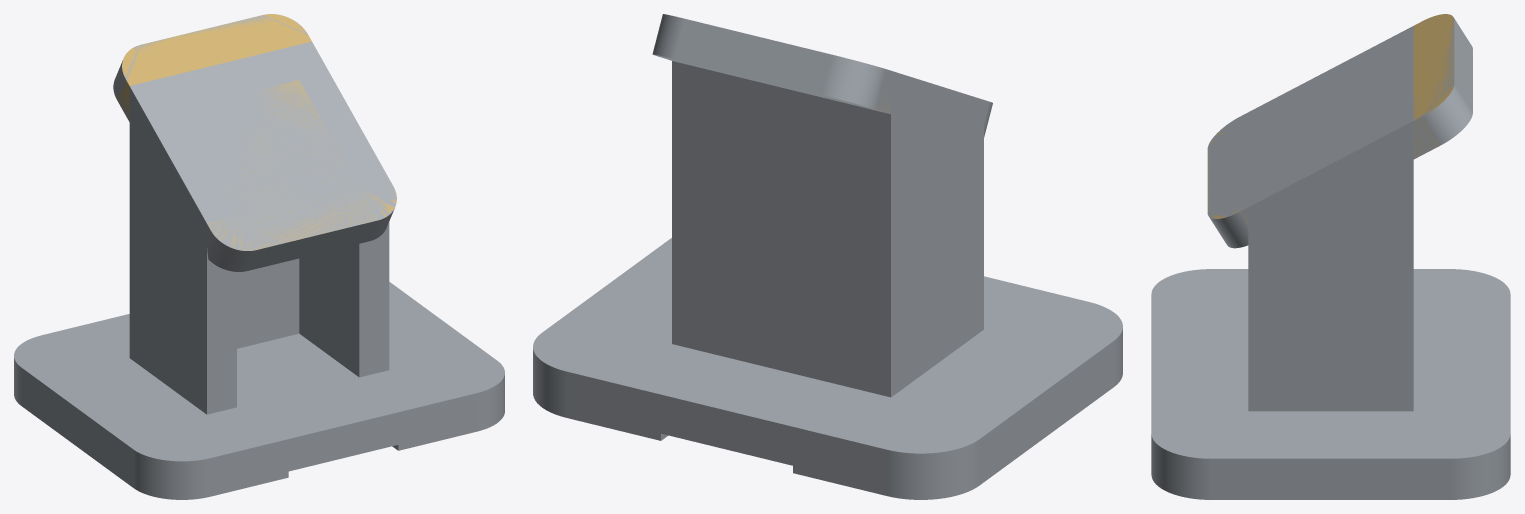
The model's file is step_06.glb.
3 views of the same model, side by side, from view 1: azimuth 30°, elevation 25°; view 2: azimuth 150°, elevation 25°; view 3: azimuth 270°, elevation 25° (orthographic). The views are drawn at different scales.
Visible parts, largest first — view 1: part__angle bracket, added__angle bracket; view 2: part__angle bracket; view 3: part__angle bracket, added__angle bracket.
Part boxes in pixels (box(x1,y1,x2,y2)): part__angle bracket: box(14, 14, 504, 499); added__angle bracket: box(117, 14, 396, 250); part__angle bracket: box(533, 14, 1122, 499); part__angle bracket: box(1151, 14, 1510, 499); added__angle bracket: box(1207, 14, 1454, 222).
Bounding box in the file's own units: 95.25 × 82.68 × 76.2.
